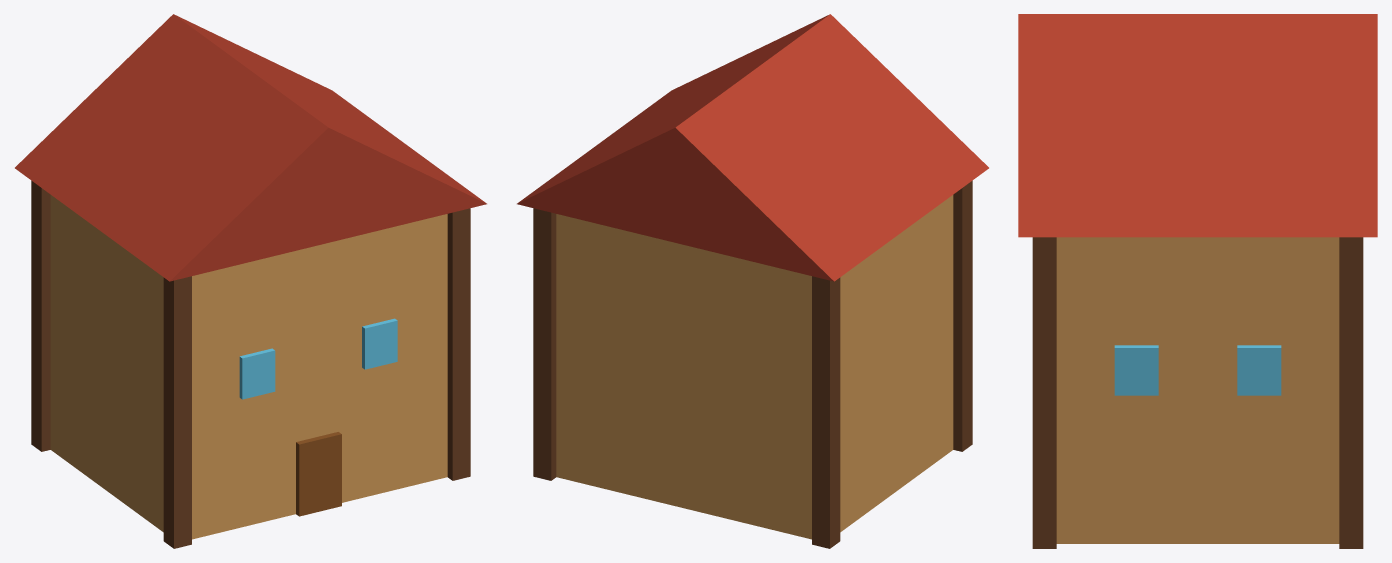
File: barn.glb
3 renders of one model, left to right at view 1: azimuth 30°, elevation 25°; view 2: azimuth 150°, elevation 25°; view 3: azimuth 270°, elevation 25°, orthographic. The views are drawn at different scales.
Visible parts, largest first — view 1: beams; view 2: beams; view 3: beams.
Boxes of the visible parts, <box> form: beams: <box>15,14,486,548</box>; beams: <box>517,14,988,548</box>; beams: <box>1018,14,1377,548</box>.
Size of the model in its own units: 1.94 by 2.27 by 1.64.
